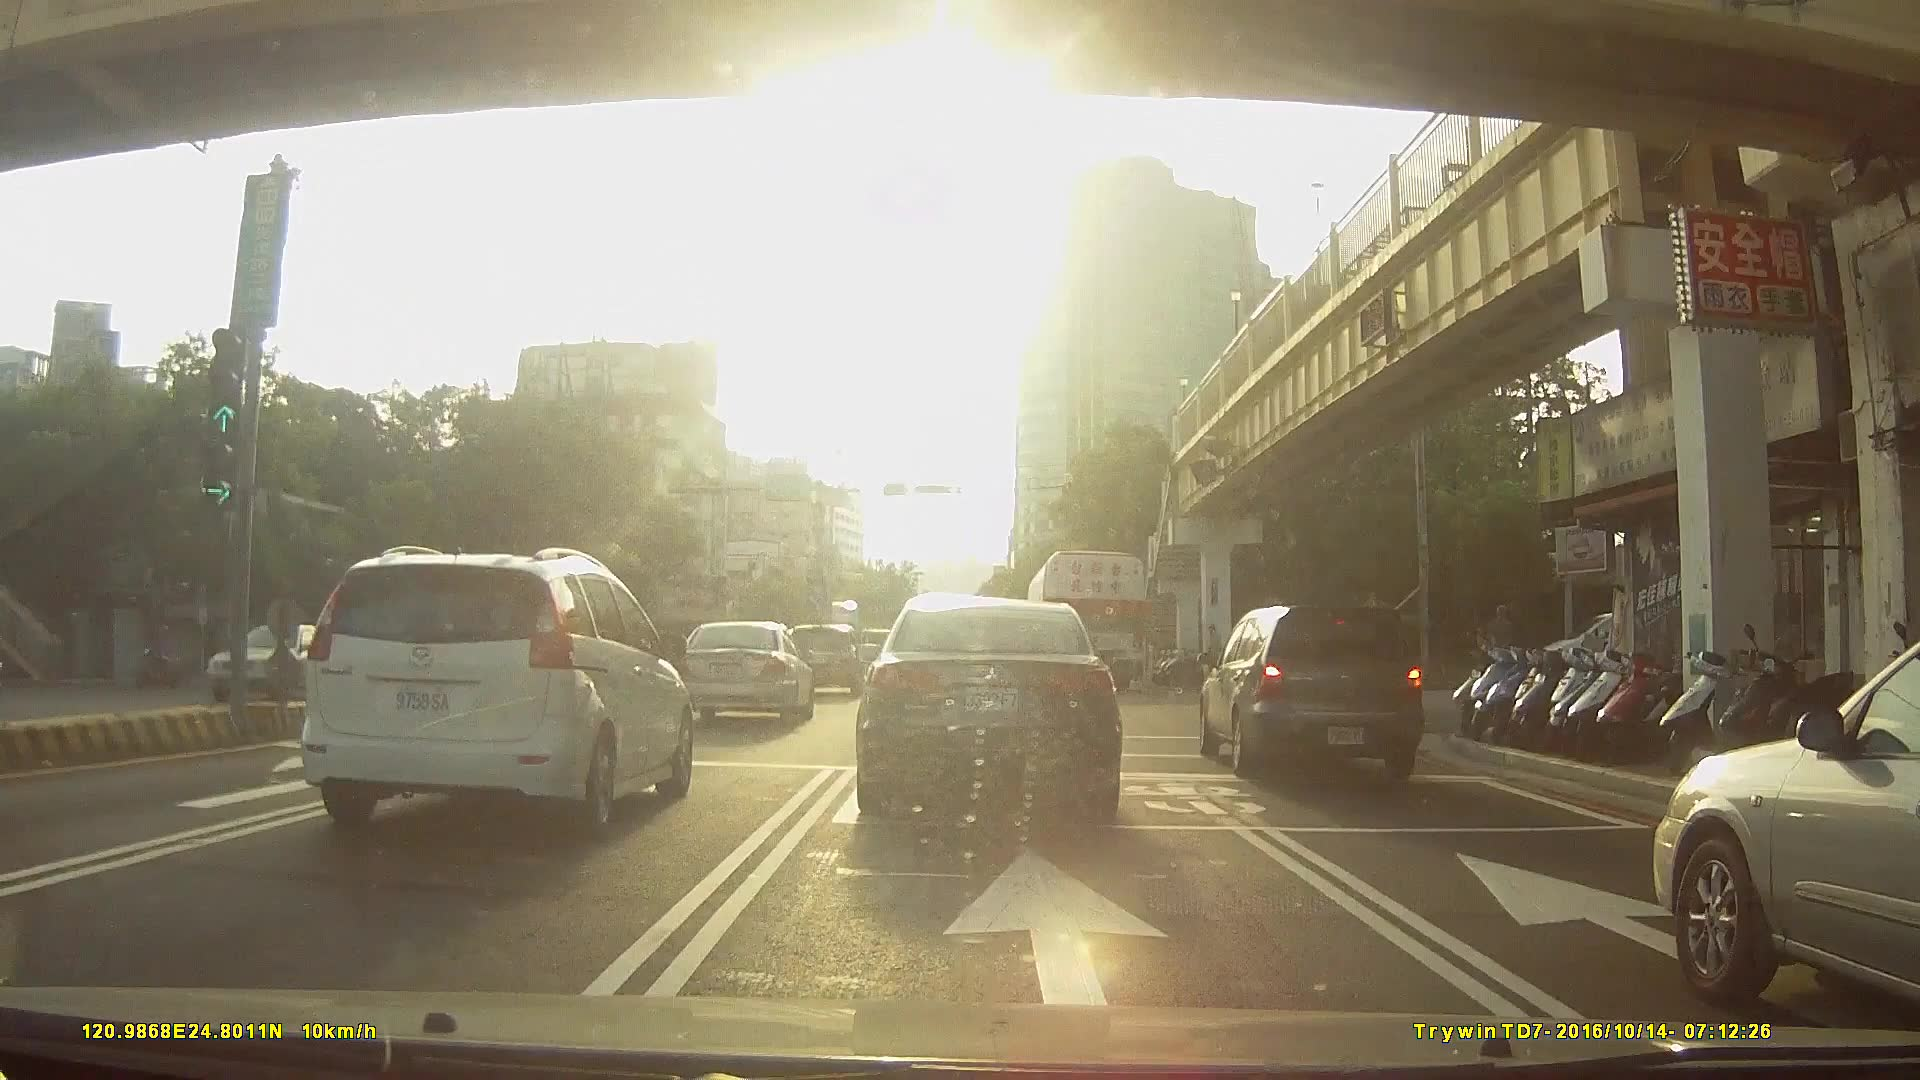pedestrian: (1205, 619, 1232, 682)
vehicle: (298, 543, 697, 837), (1651, 643, 1920, 1015), (852, 590, 1121, 828), (1199, 600, 1425, 780), (1026, 550, 1148, 692), (677, 620, 814, 726), (203, 622, 358, 702), (779, 624, 863, 696)
